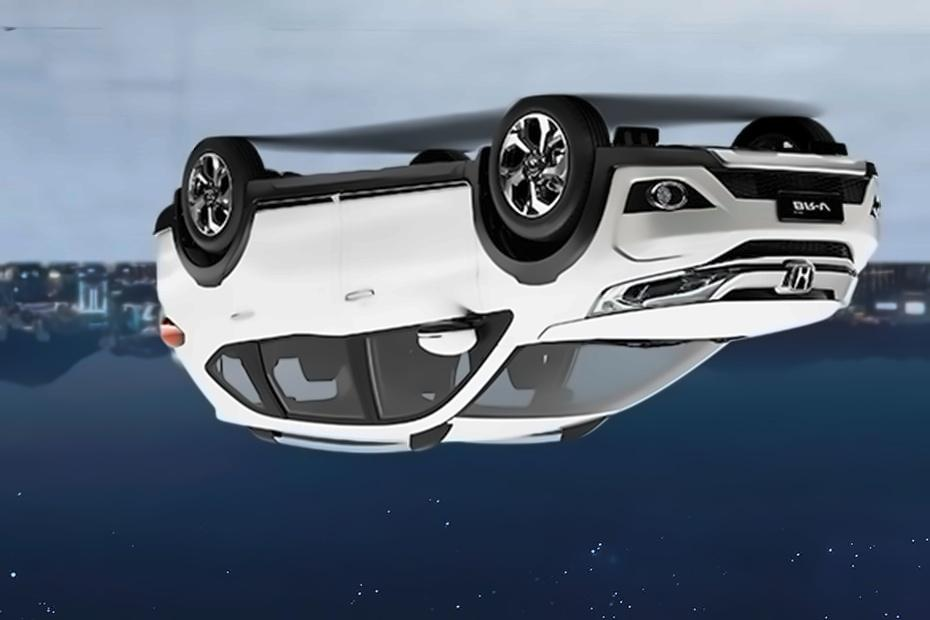Car hood: (536, 293, 843, 341)
Fender - -F-L-: (466, 171, 614, 331)
Fender - -R-L-: (170, 170, 263, 318)
Front bumper: (583, 134, 890, 260)
Headlight - -L-: (584, 263, 742, 324)
Passenger-s door - -F-L-: (343, 181, 494, 448)
Passenger-s door - -R-L-: (218, 198, 370, 448)
Rear bumper: (139, 193, 197, 249)
Rear light - -L-: (143, 296, 194, 355)
Side bumper - -L-: (231, 151, 510, 214)
Side mirror - -L-: (400, 308, 493, 362)
